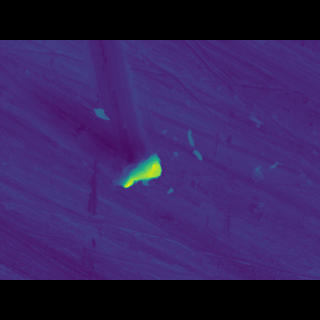Loch: (108, 151, 169, 185), (247, 159, 271, 178)
